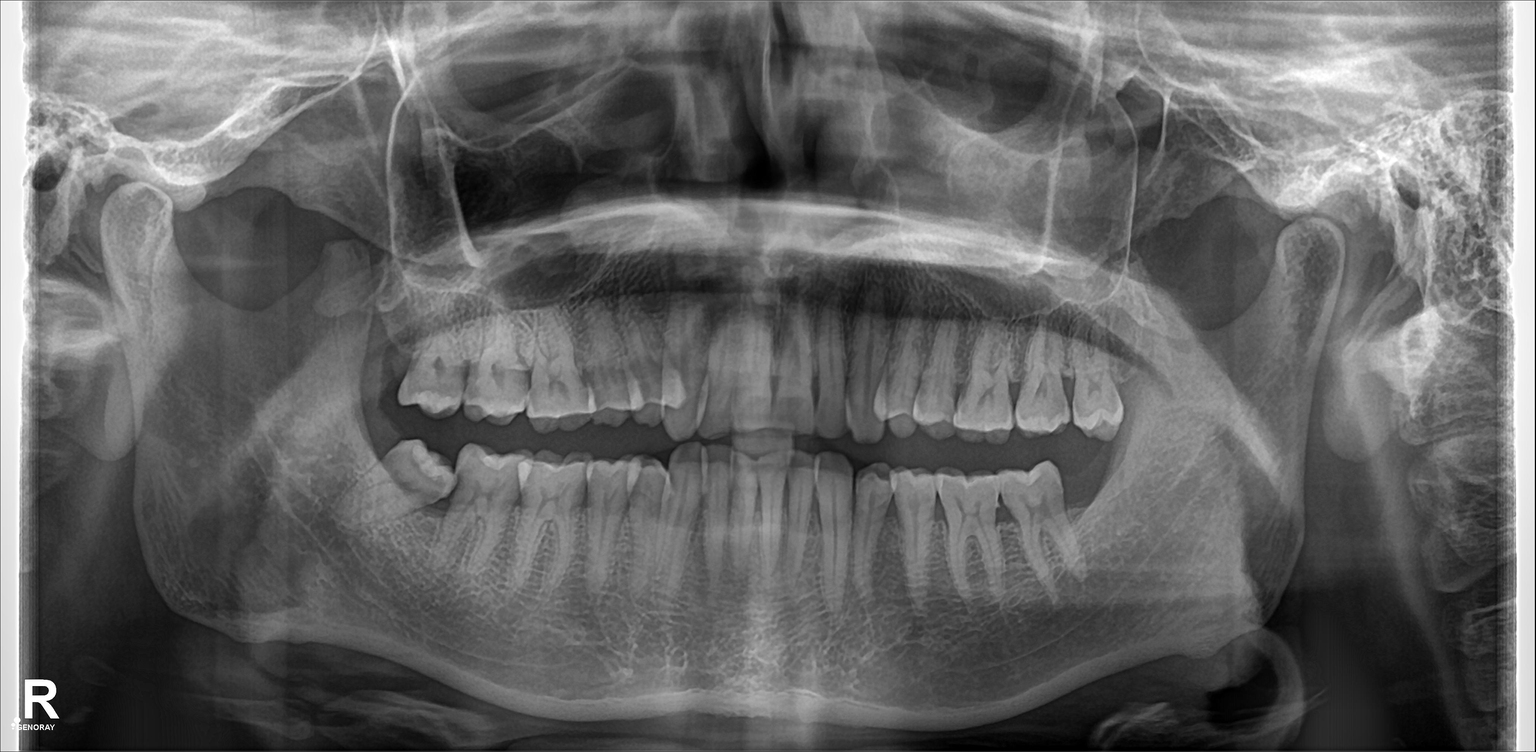Impacted Third Molar: (358, 434, 454, 521)
Missing Tooth: (1073, 456, 1120, 554), (358, 320, 408, 401)
